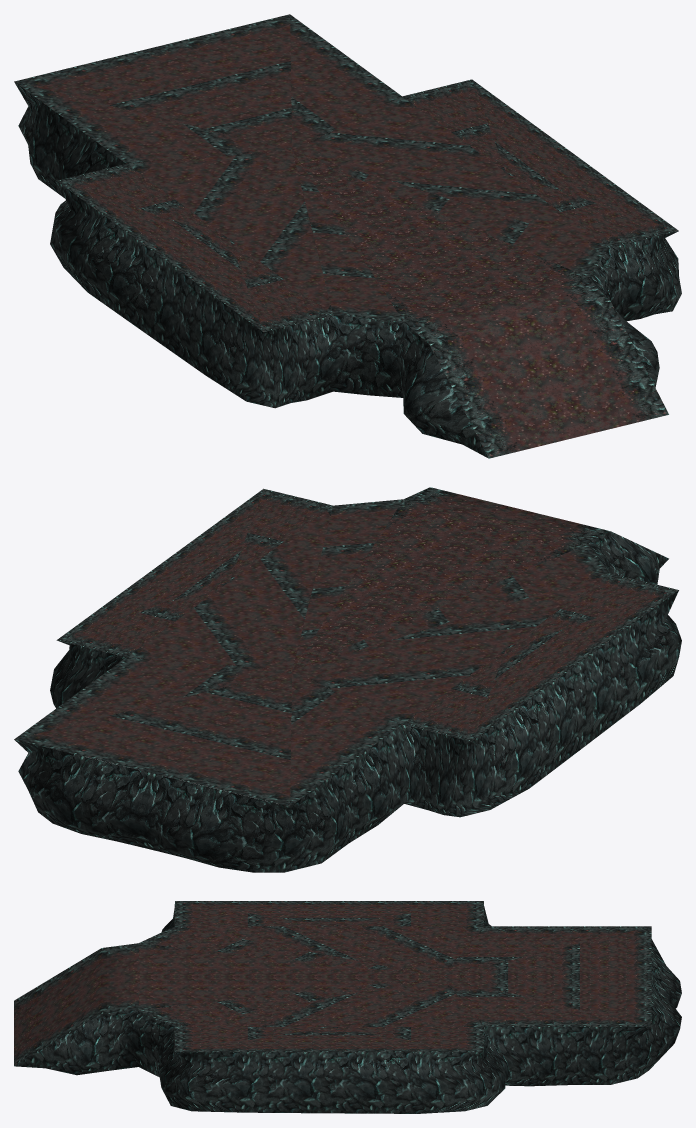
The model's file is Land_01_Art.fbx.
3 renders of one model, top to bottom at view 1: azimuth 30°, elevation 25°; view 2: azimuth 150°, elevation 25°; view 3: azimuth 270°, elevation 25°, orthographic. The views are drawn at different scales.
Parts seen in each view (by area): view 1: LAND; view 2: LAND; view 3: LAND.
Boxes of the visible parts, <box> form: LAND: <box>14,14,681,458</box>; LAND: <box>14,487,681,872</box>; LAND: <box>14,901,681,1113</box>.
Bounding box in the file's own units: 3170 × 504 × 5373.
